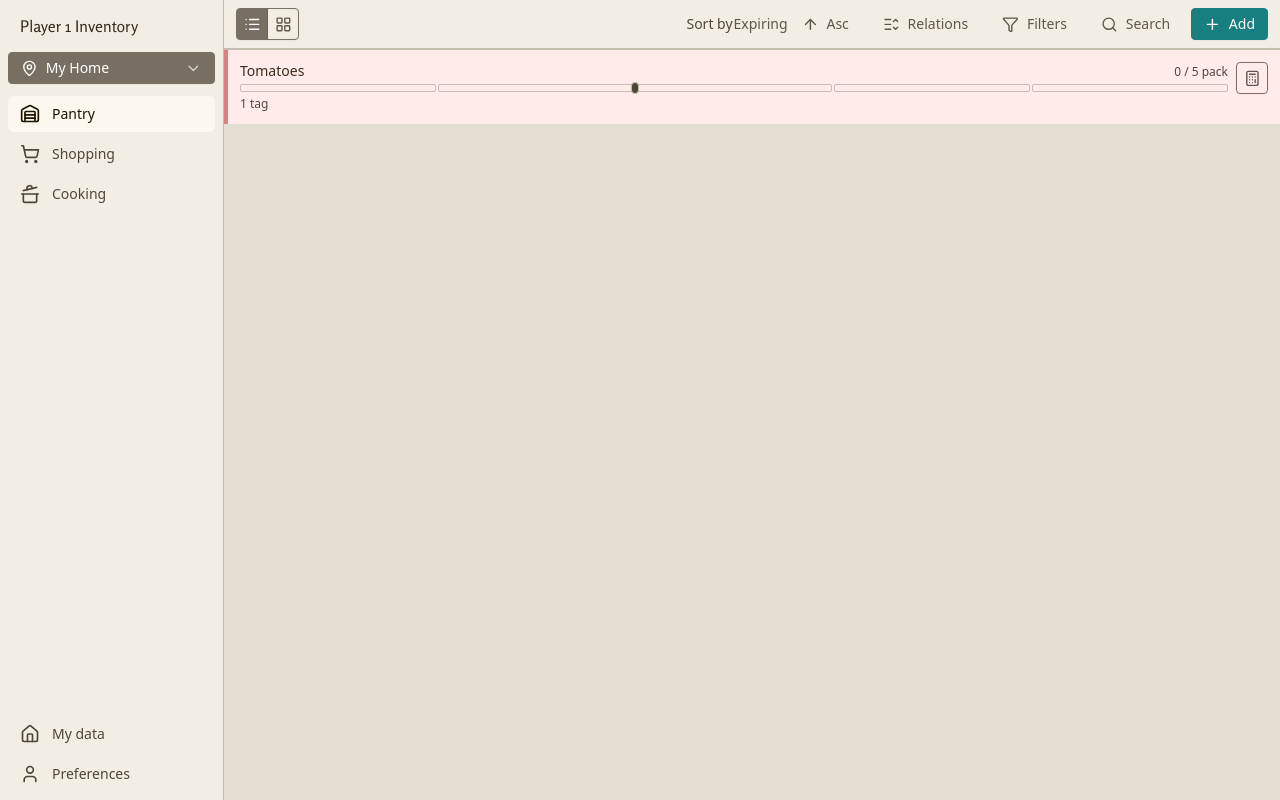
Test: Home page filtering integration › user can toggle tag visibility
Expected: the heading "Tomatoes" is shown, [240,62,304,80]
Expected: the text "1 tag" is shown, [240,96,268,112]
# Click relations toggle to show tags/vendors/recipes on cards
Click the button with aria-label "toggle relations": (926, 24) [870,8,981,40]
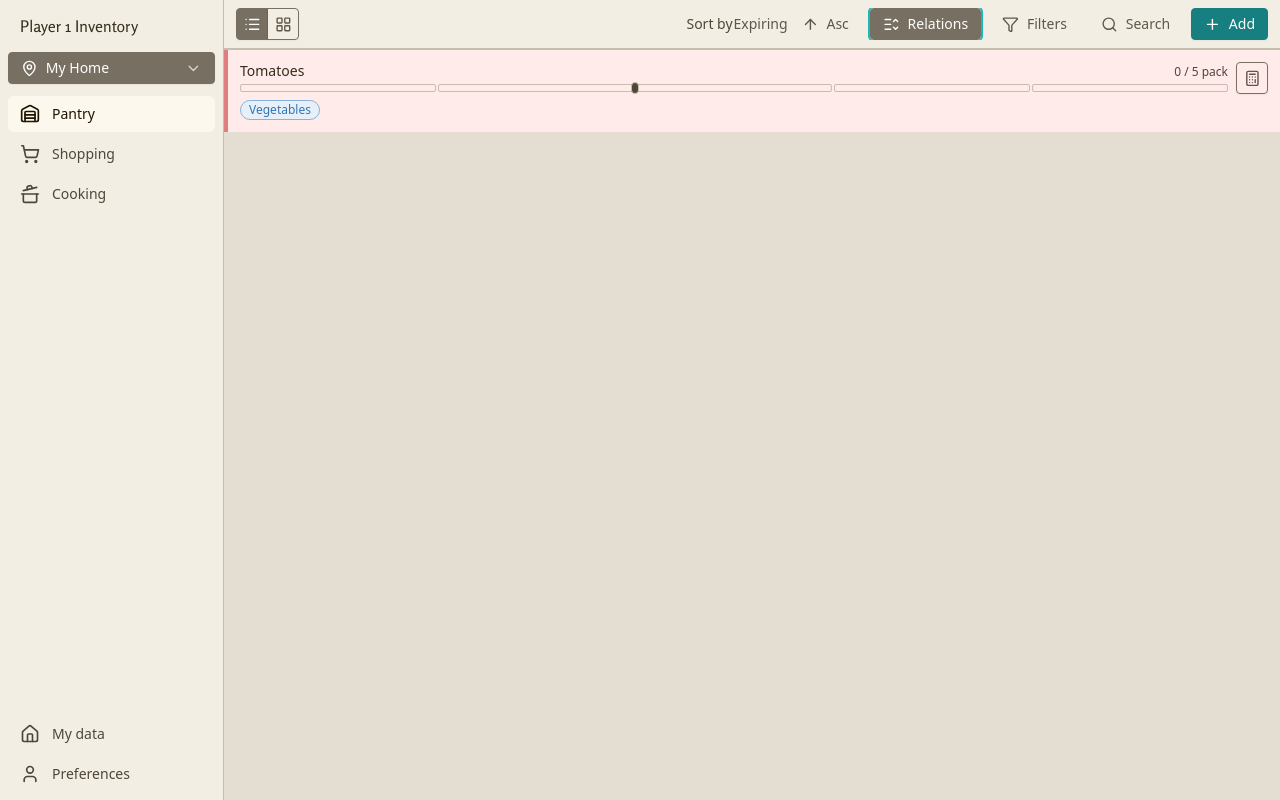
Result: the text "1 tag" is gone
Result: the button "Vegetables" is shown at [240,100,320,120]
